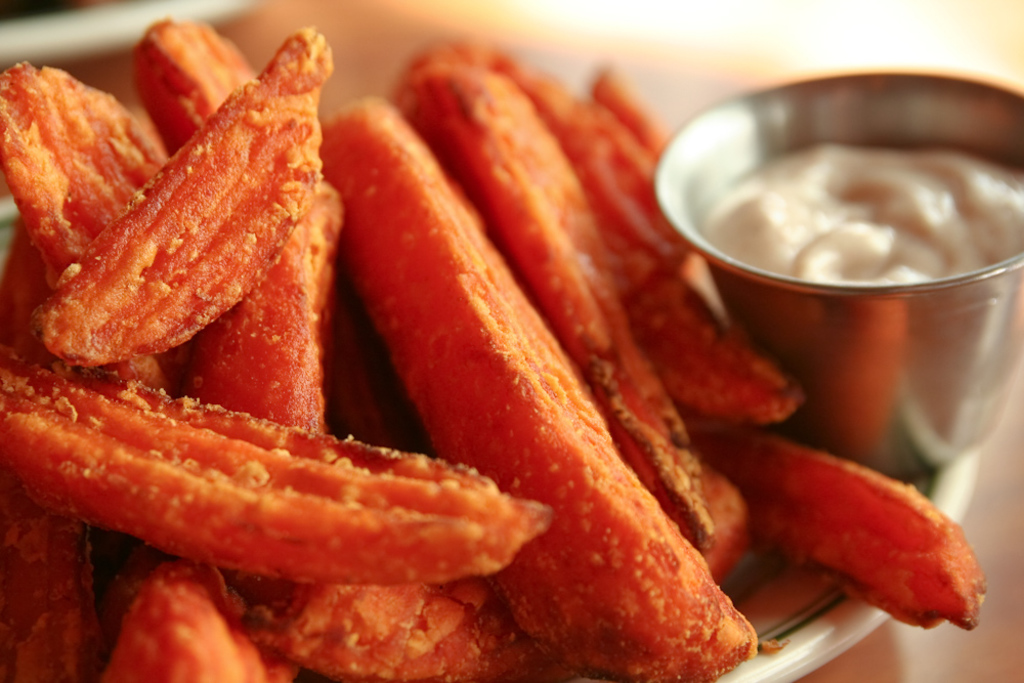French fries: (0, 13, 983, 681)
